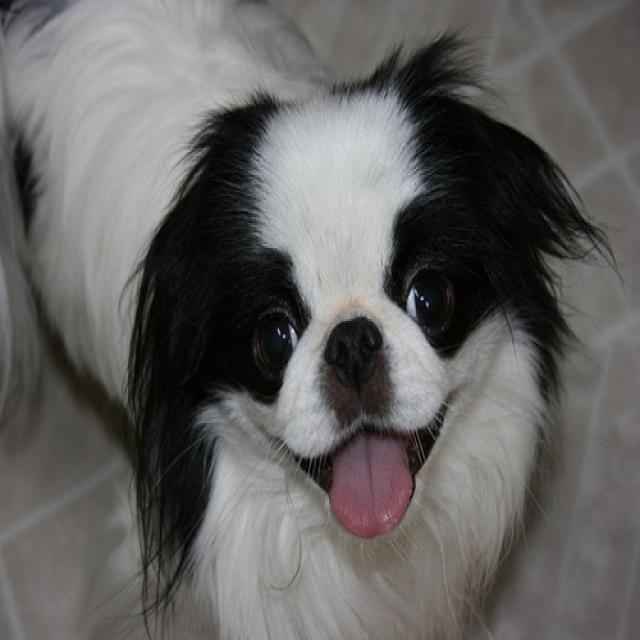dog-japanese_chin: (1, 2, 632, 636)
